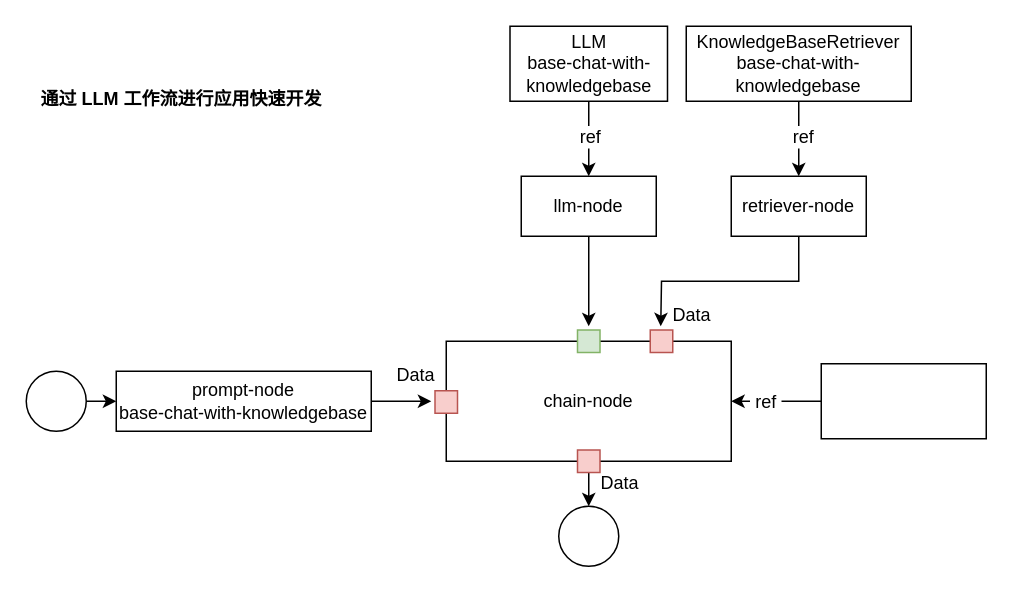
Image size: 1013x593. Some labels were removed from this diagram. The shapes that lost their labels are listed below. From the top down, each one's centre as x and y in pixels, then its label:
At point (55, 400): "Input".
At point (903, 400): "RetrievalQAChain base-chat-with-knowledgebase".
At point (588, 535): "Output".
